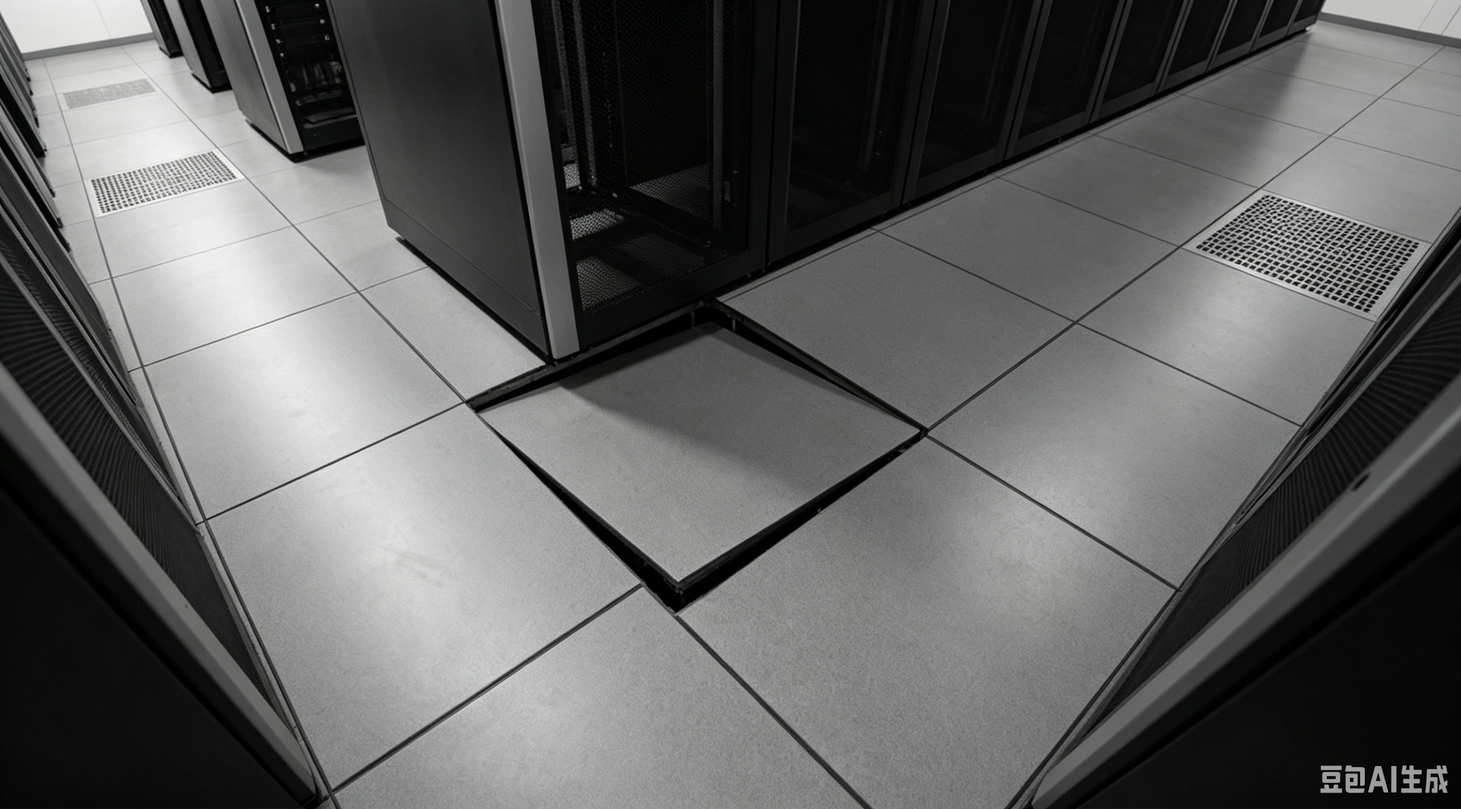floor_defect: (462, 298, 937, 616)
